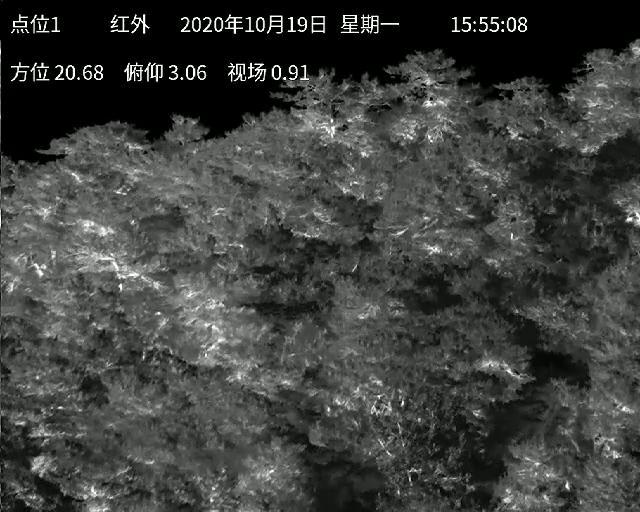uav: (372, 393, 385, 402)
